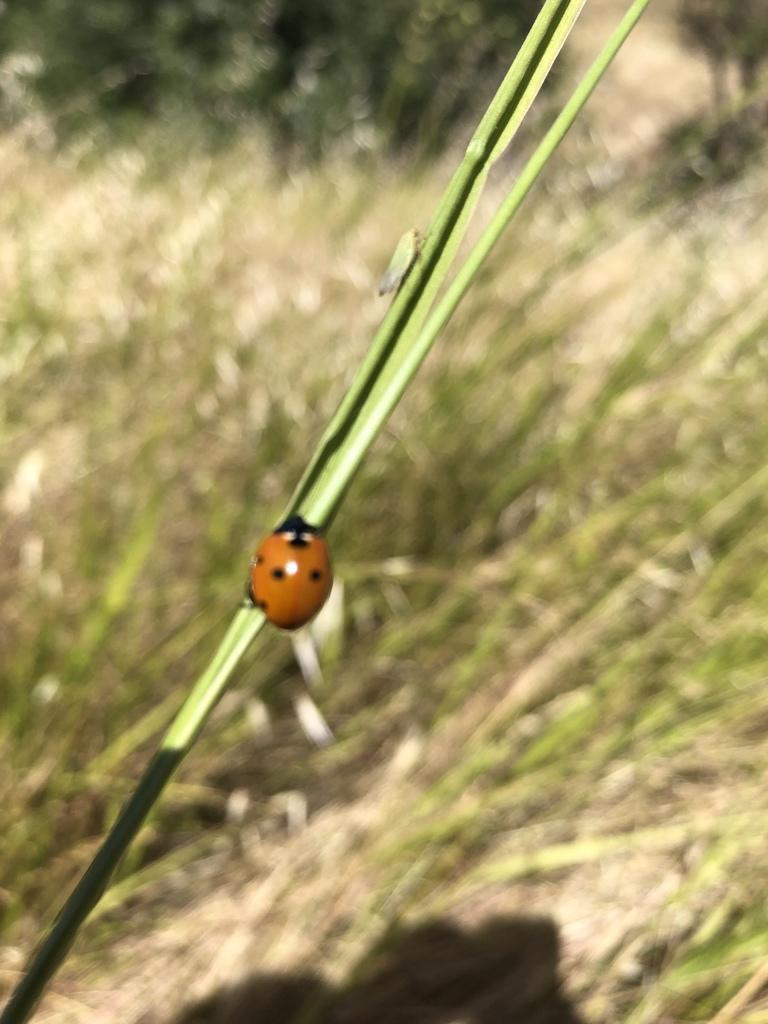ladybug: (239, 506, 341, 636)
